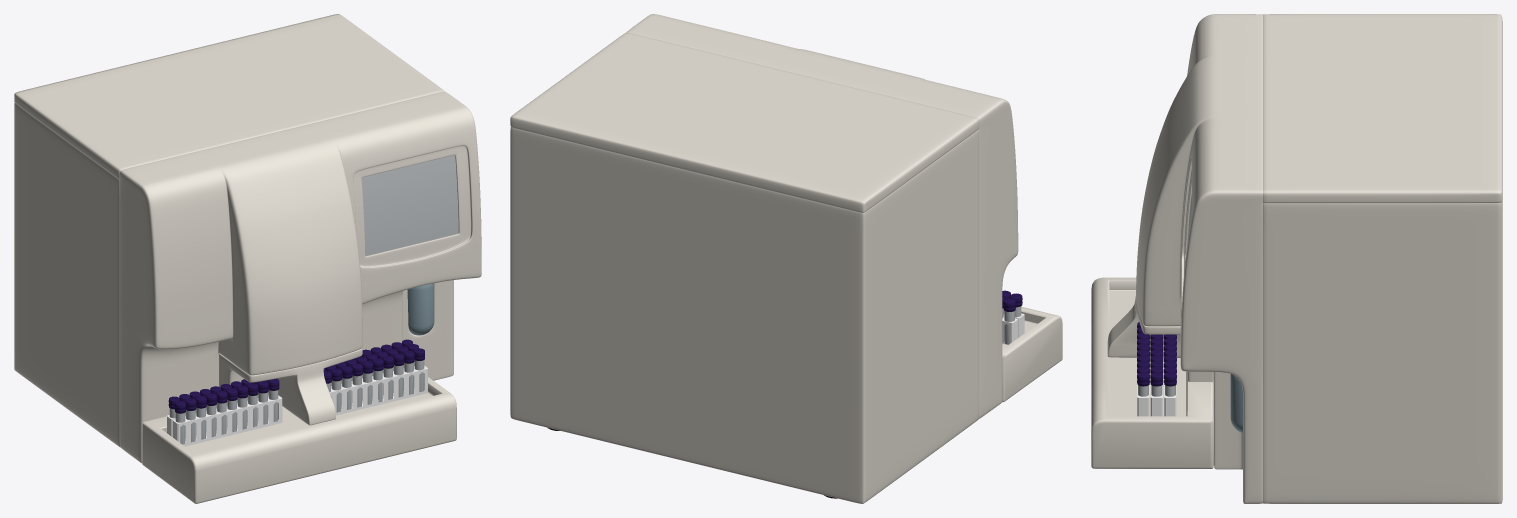
Rendered from Hemoglobin Analyzer 01.FBX.
3 renders of one model, left to right at view 1: azimuth 30°, elevation 25°; view 2: azimuth 150°, elevation 25°; view 3: azimuth 270°, elevation 25°, orthographic. The views are drawn at different scales.
Visible parts, largest first — view 1: Hemoglobin Analyzer 01; view 2: Hemoglobin Analyzer 01; view 3: Hemoglobin Analyzer 01.
Part boxes in pixels (<box>): Hemoglobin Analyzer 01: <box>14,14,481,503</box>; Hemoglobin Analyzer 01: <box>510,14,1062,503</box>; Hemoglobin Analyzer 01: <box>1091,14,1502,503</box>.
Bounding box in the file's own units: 491 × 409 × 475.
